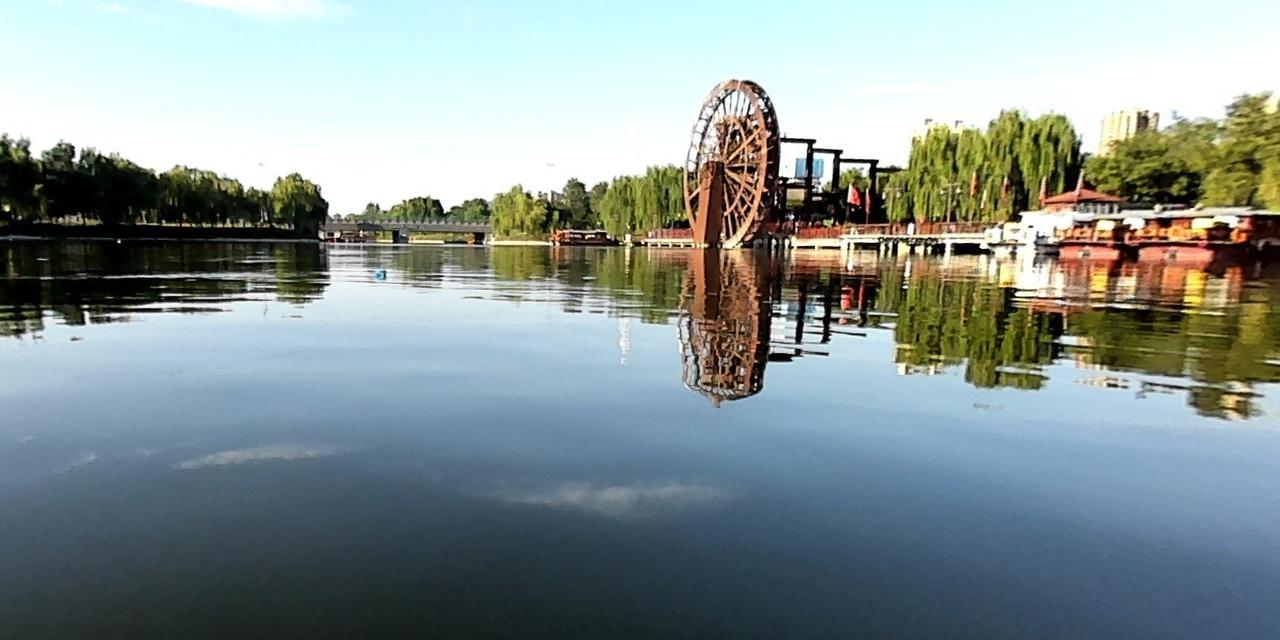bottle: (369, 264, 389, 280)
